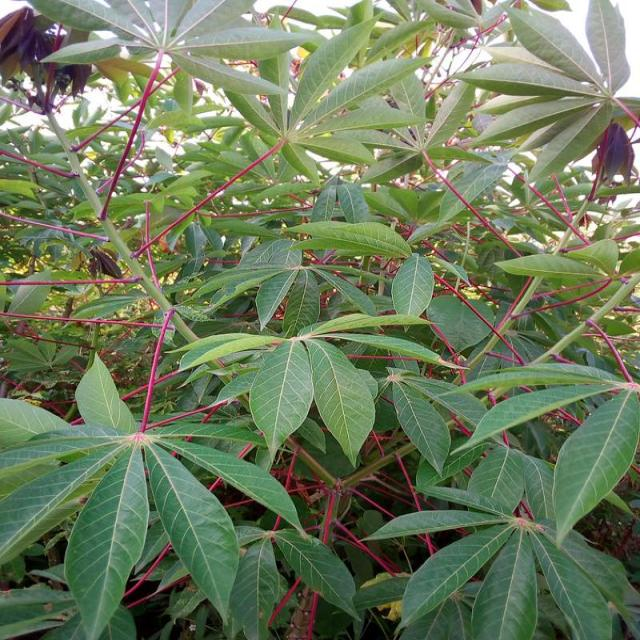cassava leaf: (0, 0, 638, 638), (143, 437, 240, 626), (62, 440, 149, 638), (248, 337, 314, 468)
